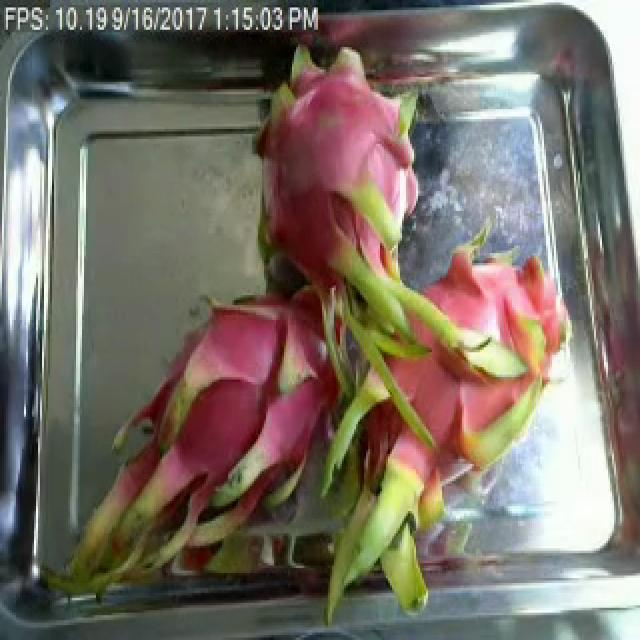Fruit: (160, 362, 280, 509)
